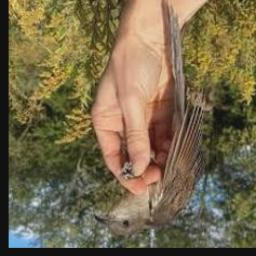Cuckoo: (94, 0, 207, 238)
